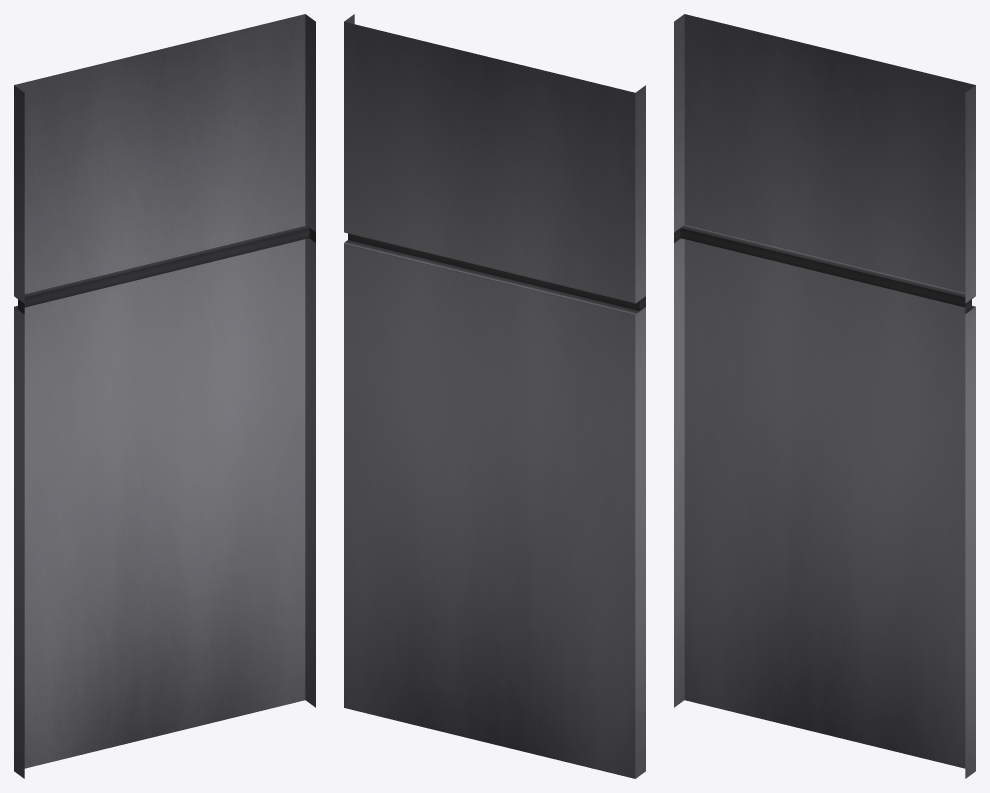
The model's file is VAL_2M_HB.fbx.
3 views of the same model, side by side, from view 1: azimuth 30°, elevation 25°; view 2: azimuth 150°, elevation 25°; view 3: azimuth 330°, elevation 25° (orthographic).
Visible parts, largest first — view 1: VAL_2M_HB; view 2: VAL_2M_HB; view 3: VAL_2M_HB.
Boxes of the visible parts, <box> form: VAL_2M_HB: <box>14,14,315,778</box>; VAL_2M_HB: <box>344,14,645,778</box>; VAL_2M_HB: <box>674,14,975,778</box>.
Bounding box in the file's own units: 2 × 4.5 × 0.125.
